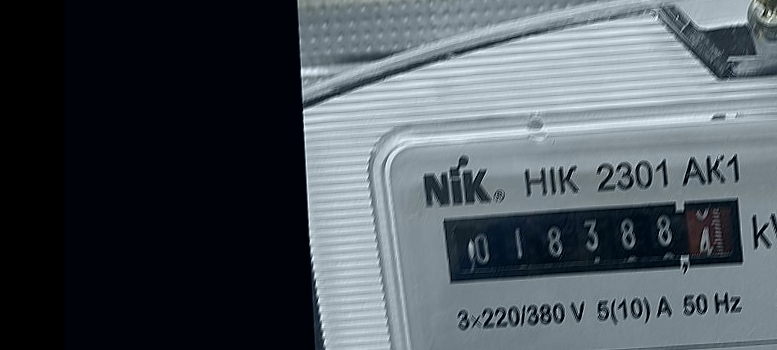0: (472, 230, 494, 267)
1: (509, 223, 529, 261)
3: (582, 217, 604, 253)
4: (696, 223, 717, 257)
8: (544, 222, 567, 259), (654, 211, 677, 248), (618, 216, 640, 252)
screen: (435, 188, 758, 294)
